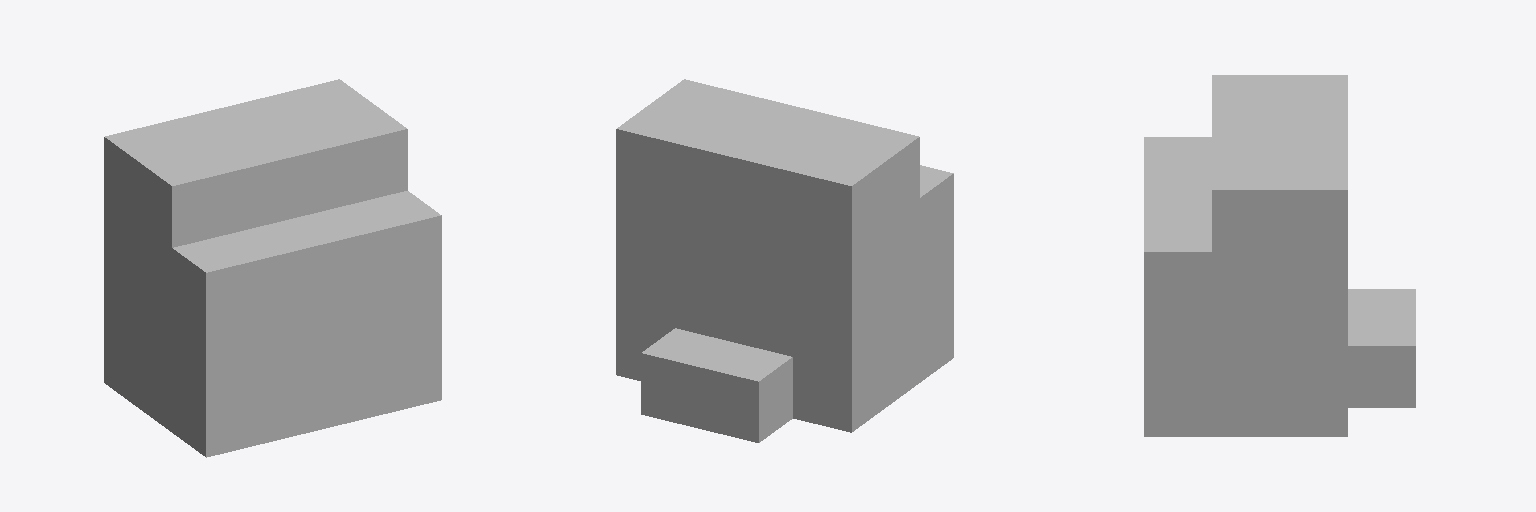
File: Yeti_Torso.obj
The picture shows the model from 3 angles: view 1: azimuth 30°, elevation 25°; view 2: azimuth 150°, elevation 25°; view 3: azimuth 270°, elevation 25°; orthographic projection.
Parts seen in each view (by area): view 1: Yeti_Torso; view 2: Yeti_Torso; view 3: Yeti_Torso.
Boxes of the visible parts, x1=… form: Yeti_Torso: x1=104, y1=79, x2=441, y2=457; Yeti_Torso: x1=616, y1=79, x2=953, y2=442; Yeti_Torso: x1=1144, y1=75, x2=1415, y2=436.
Size of the model in its own units: 4 by 4 by 4.